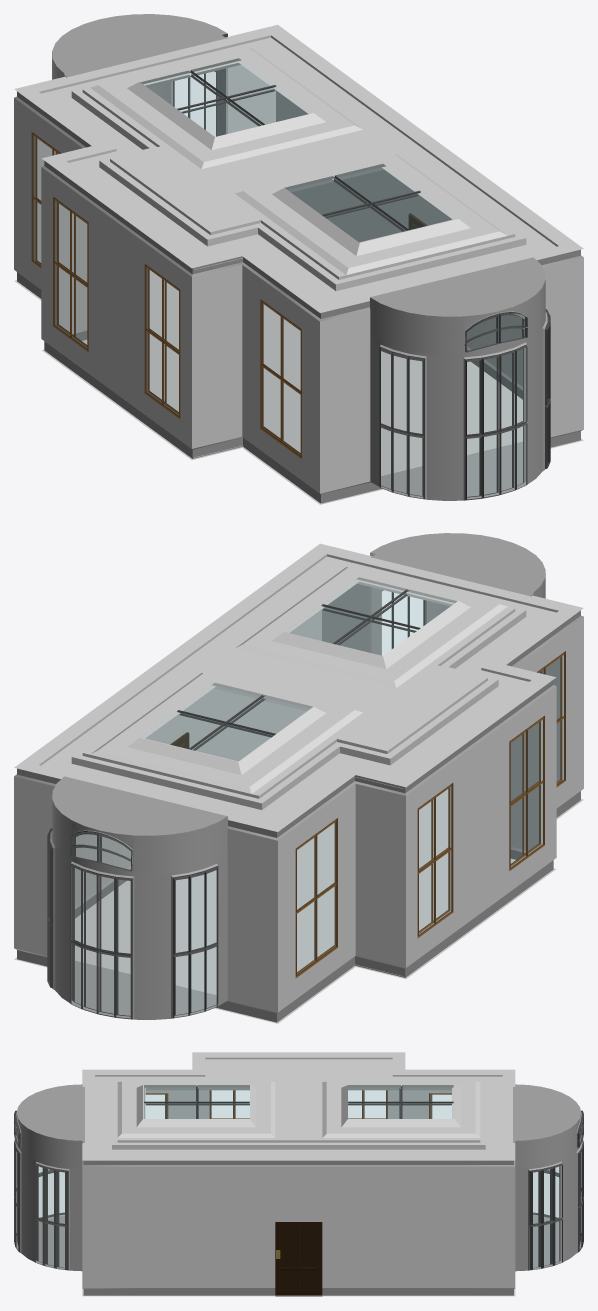
The model's file is RoomShadowsFix.fbx.
3 renders of one model, top to bottom at view 1: azimuth 30°, elevation 25°; view 2: azimuth 150°, elevation 25°; view 3: azimuth 270°, elevation 25°, orthographic. The views are drawn at different scales.
Parts seen in each view (by area): view 1: polySurface105, polySurface104; view 2: polySurface105, polySurface104; view 3: polySurface105, polySurface104.
Boxes of the visible parts, x1,y1,x2,y2 form: polySurface105: (14, 14, 583, 504); polySurface104: (33, 35, 525, 497); polySurface105: (14, 533, 583, 1023); polySurface104: (71, 554, 563, 1016); polySurface105: (14, 1052, 583, 1296); polySurface104: (17, 1087, 580, 1294).
Bounding box in the file's own units: 1392 × 888 × 3081.
